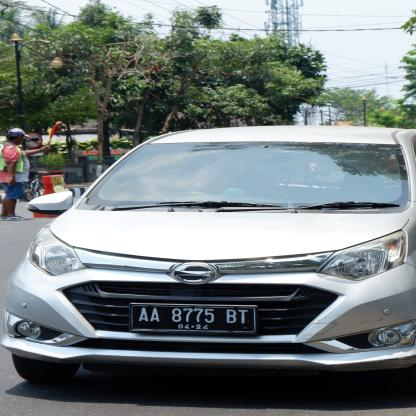Plat-Nomor: (128, 299, 259, 338)
